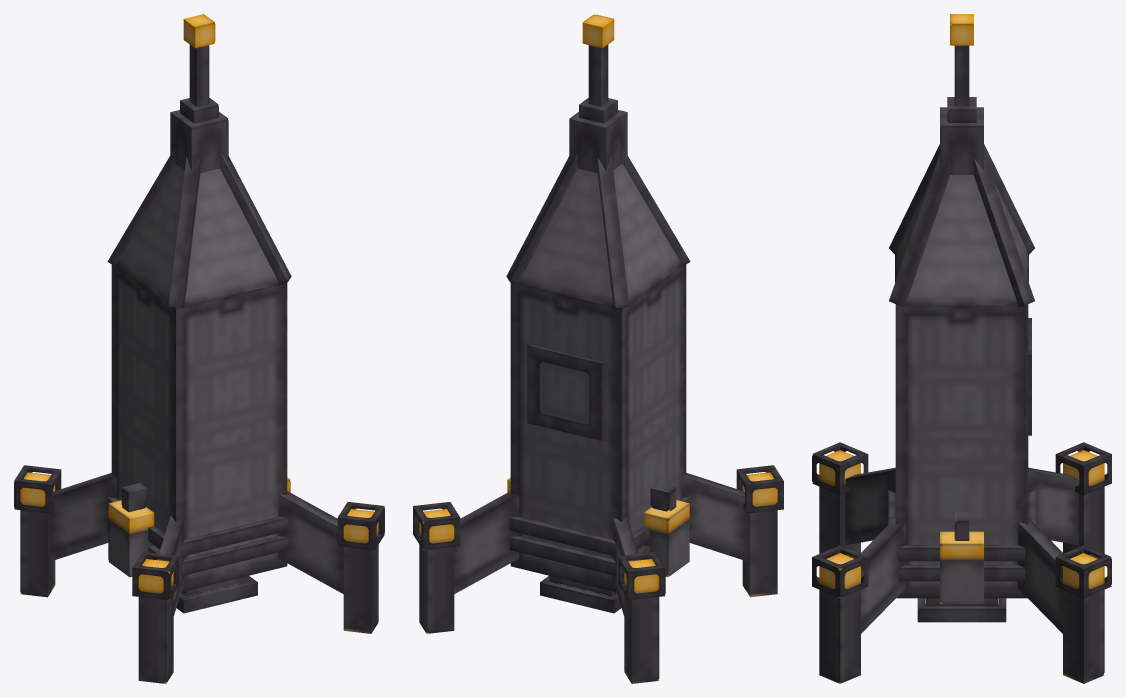
Rendered from rocket_t1.obj.
The picture shows the model from 3 angles, left to right: view 1: azimuth 30°, elevation 25°; view 2: azimuth 150°, elevation 25°; view 3: azimuth 270°, elevation 25°; orthographic projection. The views are drawn at different scales.
Parts seen in each view (by area): view 1: body.002, body.001, cube.008, cube.011, cube.006, cube.000, cube.003, cube.007, cube.001, cube.019, cube.026, cube.014 (+13 smaller); view 2: body.000, body.001, cube.010, cube.011, cube.004, cube.002, cube.005, cube.001, cube.024, cube.003, cube.019, cube.026 (+14 smaller); view 3: body.003, cube.009, cube.007, cube.005, cube.004, cube.006, cube.000, cube.002, cube.025, cube.013, cube.015, cube.001 (+18 smaller).
Part boxes in pixels (x1,y1,x2,y2): body.002: (176, 282, 287, 591); body.001: (111, 264, 175, 549); cube.008: (184, 168, 279, 306); cube.011: (116, 163, 184, 303); cube.006: (278, 491, 343, 593); cube.000: (49, 473, 116, 561); cube.003: (138, 559, 173, 683); cube.007: (343, 509, 378, 633); cube.001: (20, 472, 55, 597); cube.019: (170, 110, 228, 173); cube.026: (108, 500, 154, 577); cube.014: (168, 156, 200, 308); body.000: (510, 282, 621, 591); body.001: (622, 264, 686, 549); cube.010: (518, 168, 613, 306); cube.011: (613, 163, 681, 303); cube.004: (454, 491, 519, 593); cube.002: (681, 473, 748, 561); cube.005: (419, 509, 454, 633); cube.001: (624, 559, 659, 683); cube.024: (527, 344, 603, 440); cube.003: (742, 472, 777, 597); cube.019: (569, 110, 627, 173); cube.026: (643, 500, 689, 577); body.003: (895, 304, 1028, 598); cube.009: (906, 175, 1018, 305); cube.007: (819, 553, 860, 683); cube.005: (1063, 553, 1104, 683); cube.004: (1018, 518, 1068, 633); cube.006: (855, 518, 905, 633); cube.000: (1028, 467, 1078, 545); cube.002: (845, 467, 895, 545); cube.025: (940, 531, 983, 603); cube.013: (889, 154, 950, 307); cube.015: (973, 154, 1034, 307); cube.001: (1063, 450, 1104, 558).
Size of the model in its own units: 2.55 by 5.66 by 2.55.
